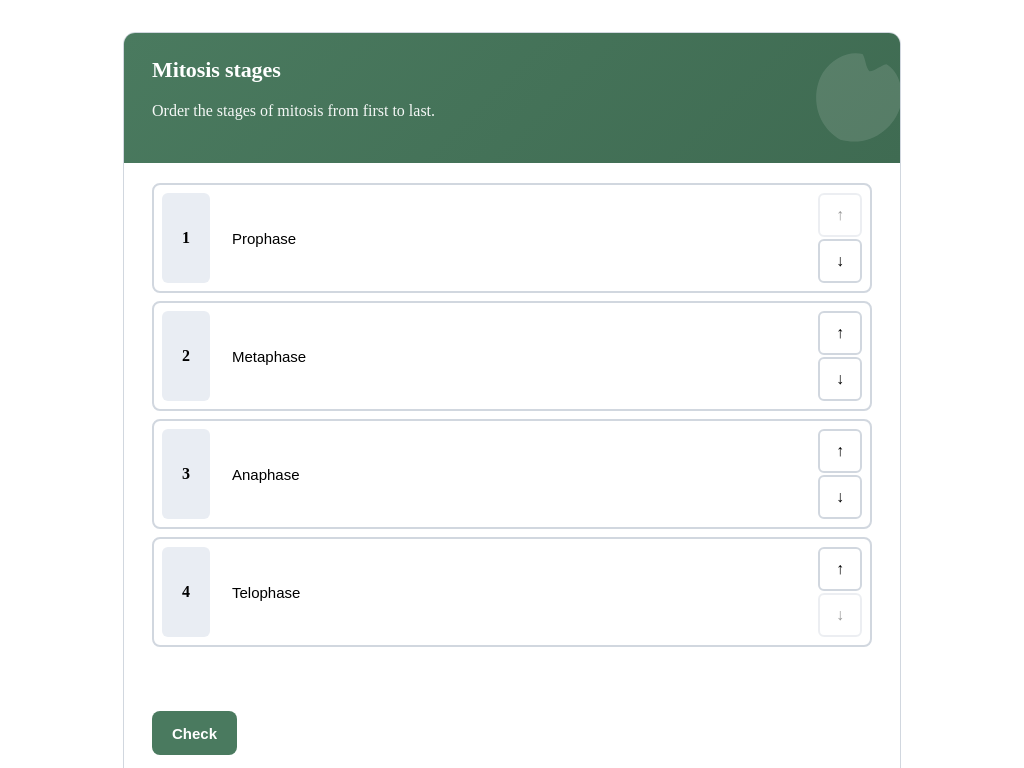
Test: SequenceSteps › partial-correct order scores partial credit per item in correct position
What coordinates should you click on to do the following:
click the button named "move \"metaphase\" up"
I would click on:
 (840, 333)
Its box is 818,311 -> 862,355.
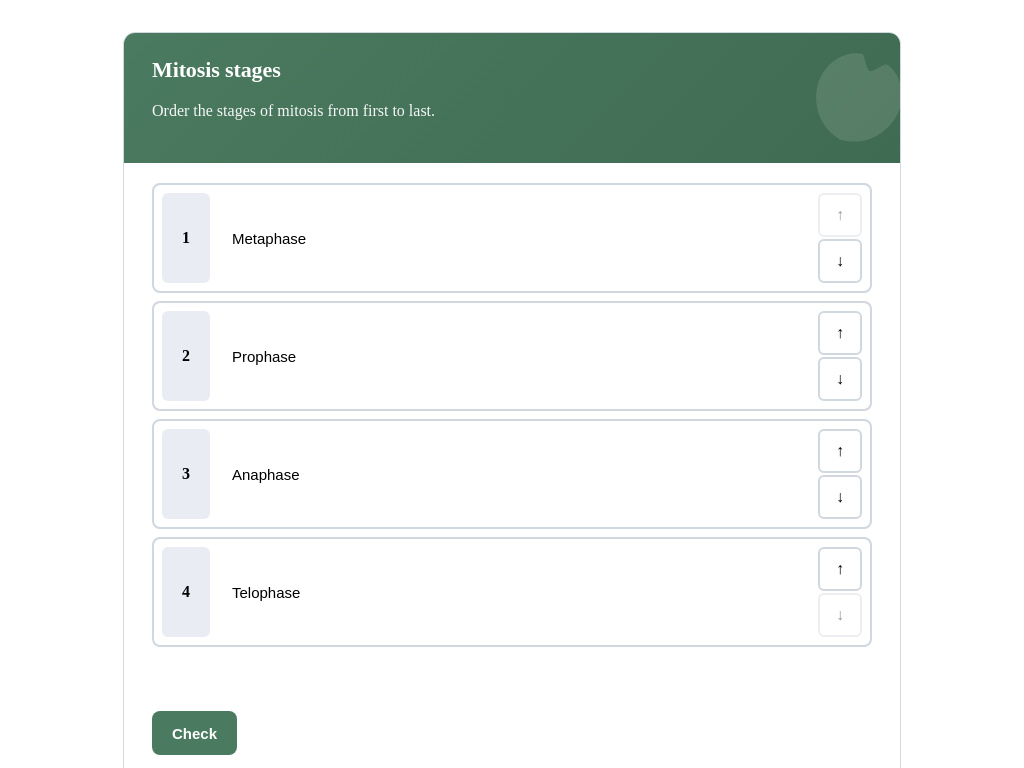
What coordinates should you click on to do the following:
click the button "Check"
I would click on:
 (194, 733)
Its box is 152,711 -> 237,755.
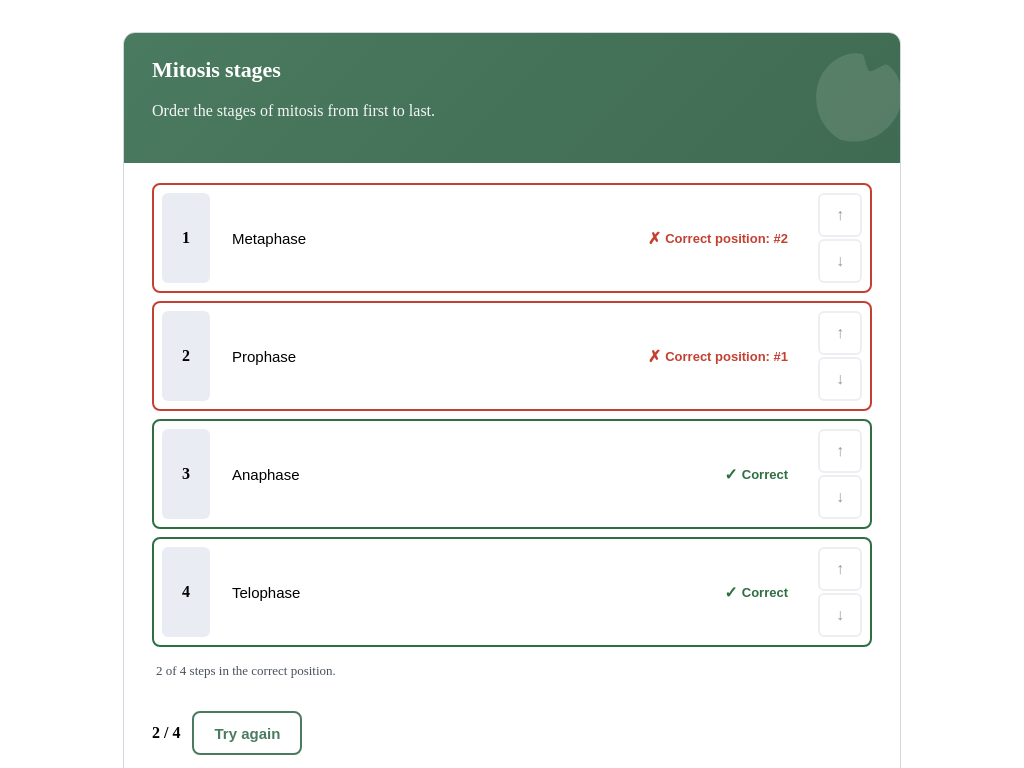
expect the text "2 of 4 steps in the correct position." is shown: met, box 156,663 -> 336,678
